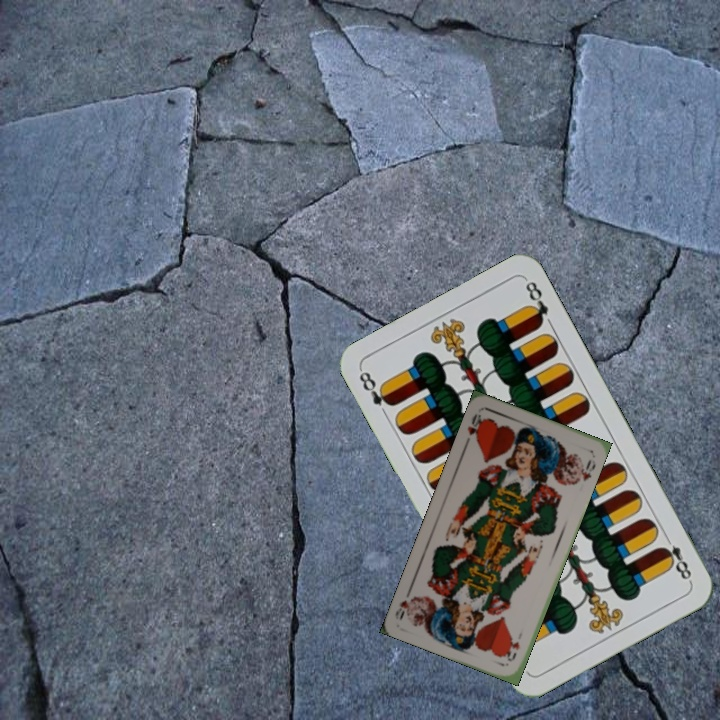E8: (656, 530, 694, 585), (355, 366, 397, 409)
HO: (461, 409, 487, 447), (503, 628, 525, 664)
